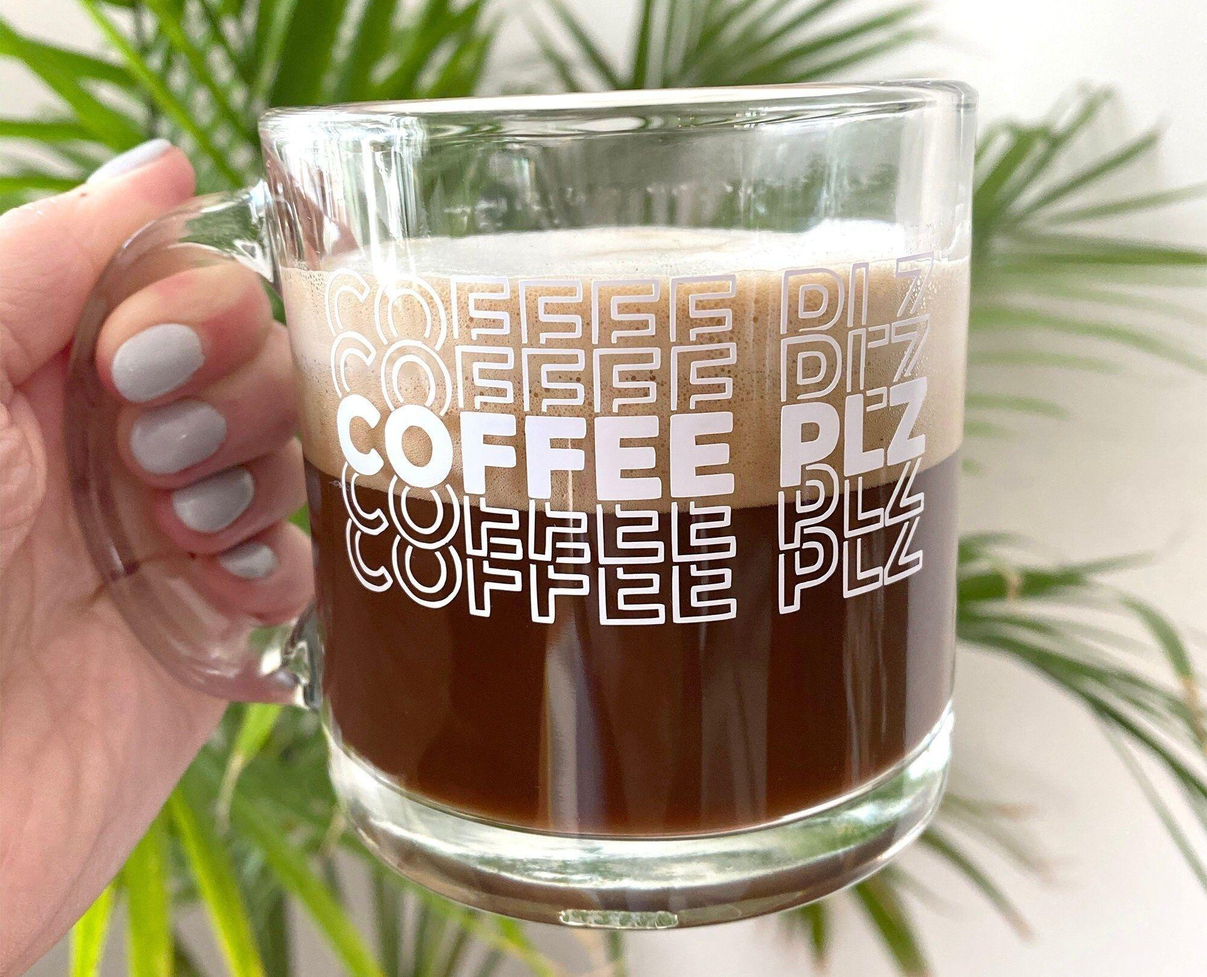glass-mug: (83, 69, 1002, 947)
